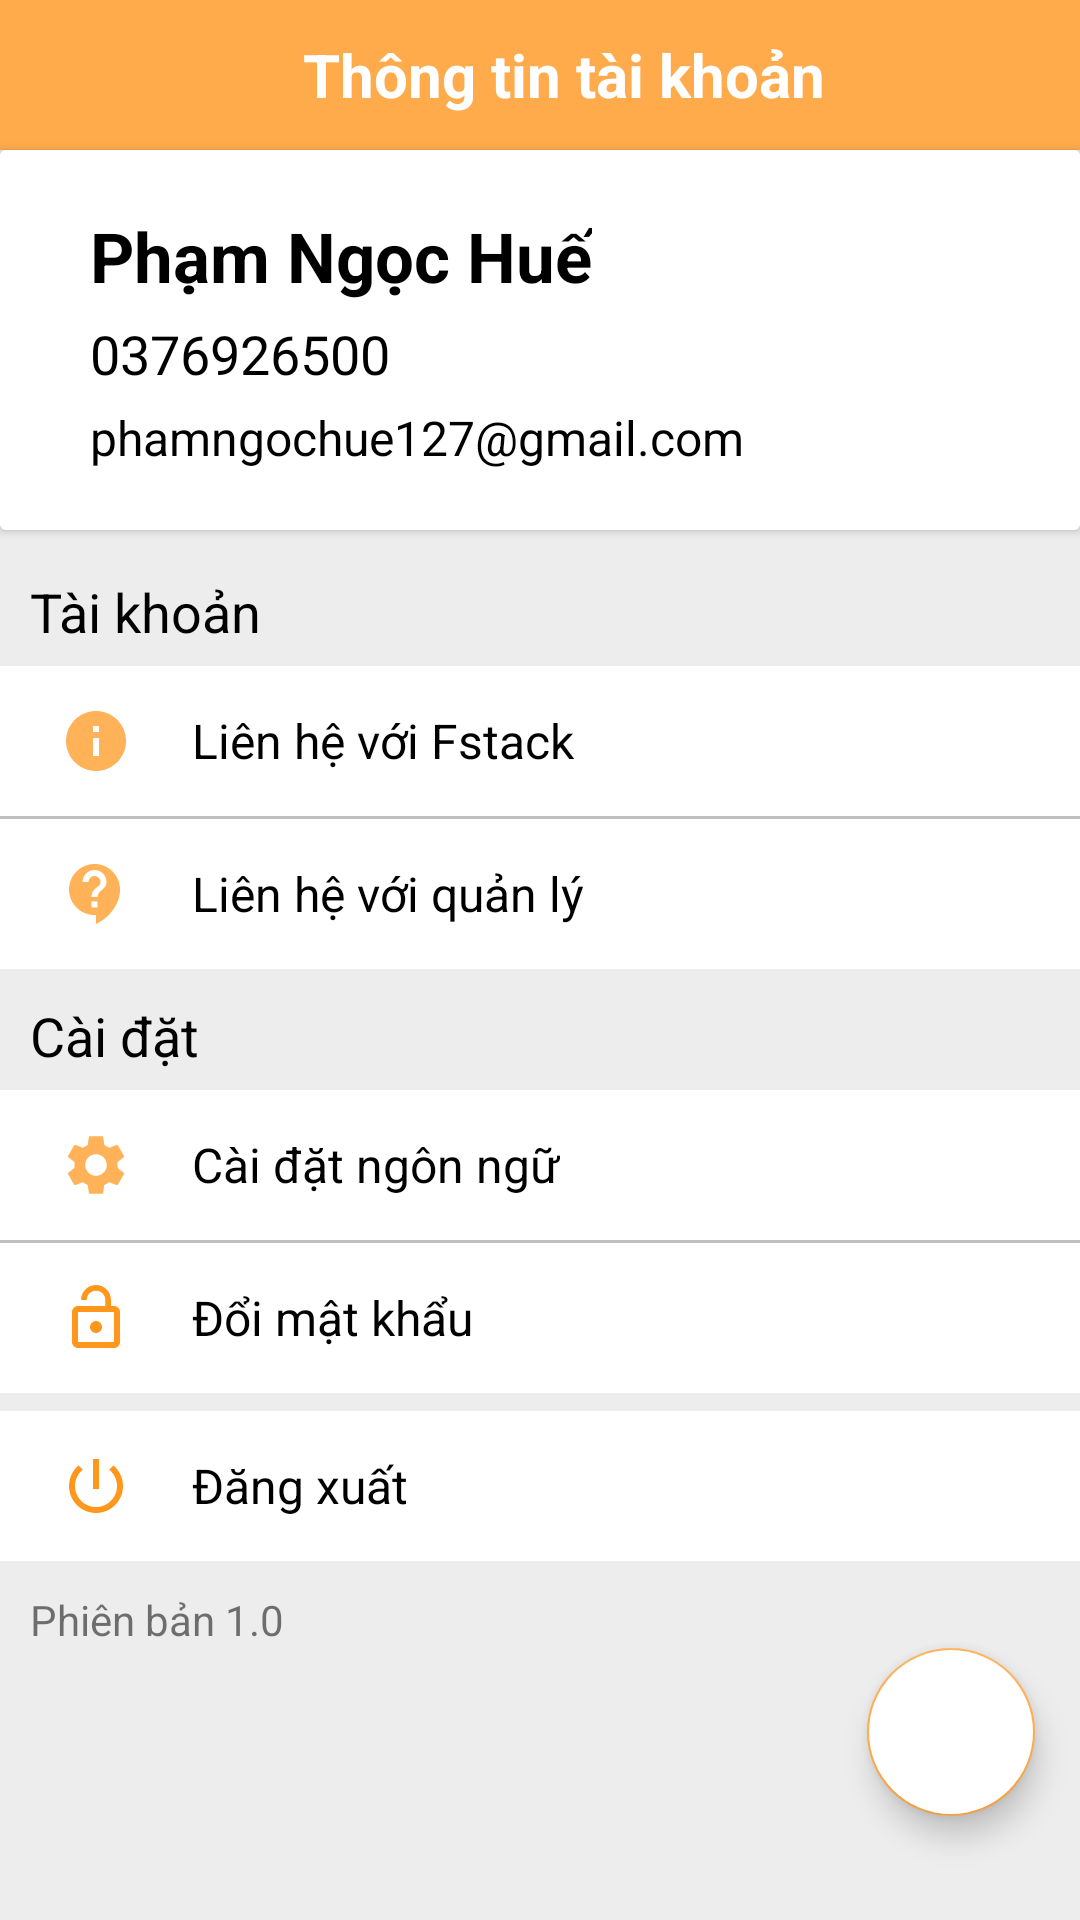

Icons on this 1080x1920 Android screen, each with the point to tap as (x=x, y=y):
info: (x=96, y=741)
password: (x=96, y=1316)
setting: (x=96, y=1165)
suport: (x=94, y=894)
